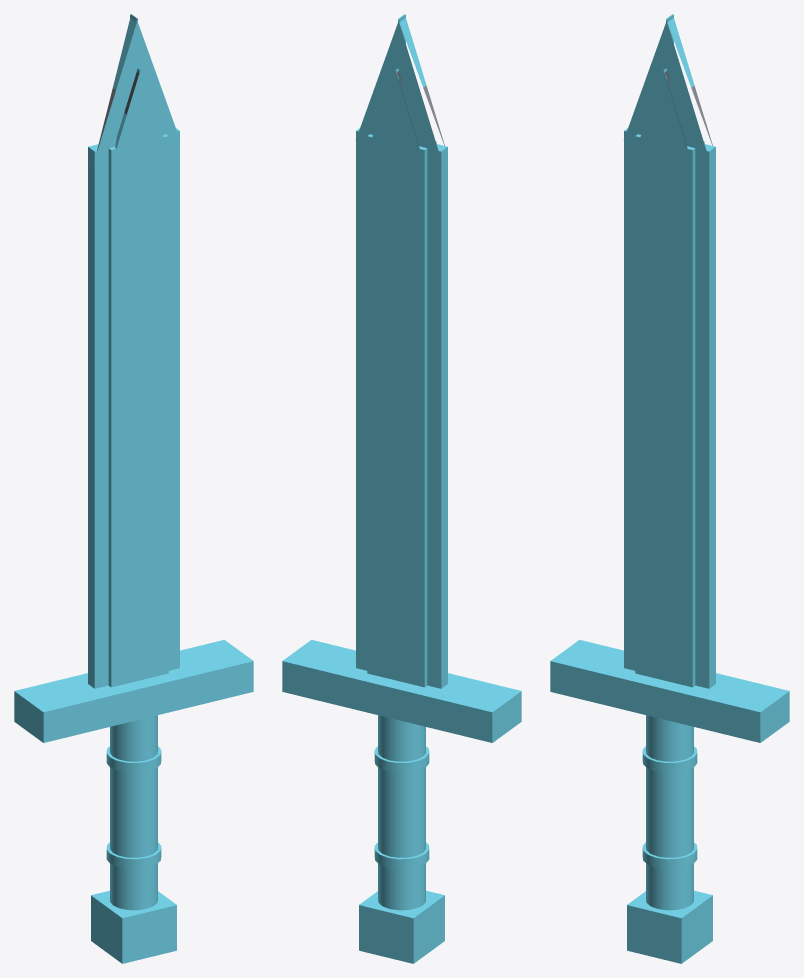
3 views of the same model, side by side, from view 1: azimuth 30°, elevation 25°; view 2: azimuth 150°, elevation 25°; view 3: azimuth 330°, elevation 25° (orthographic).
Visible parts, largest first — view 1: rank-warper-b; view 2: rank-warper-b; view 3: rank-warper-b.
Part boxes in pixels (x1=…): rank-warper-b: x1=14, y1=14, x2=253, y2=963; rank-warper-b: x1=282, y1=14, x2=521, y2=963; rank-warper-b: x1=550, y1=14, x2=789, y2=963.
Bounding box in the file's own units: 0.2024 × 0.8551 × 0.0526.
